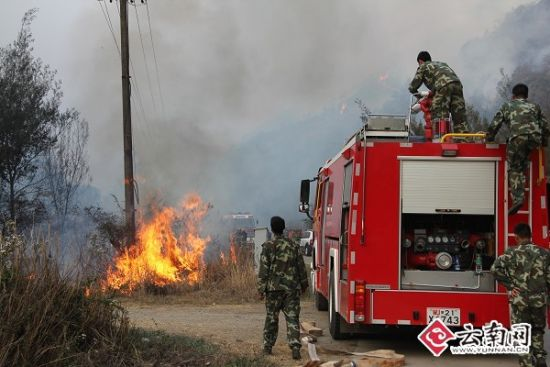fire: (84, 184, 212, 298)
